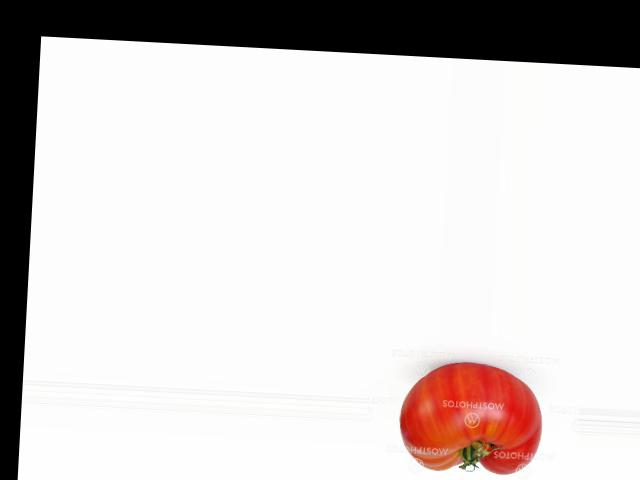tomato: (396, 359, 543, 476)
